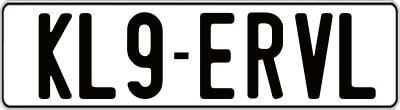9: (125, 9, 164, 97)
E: (198, 11, 236, 98)
K: (36, 11, 72, 100)
L: (339, 13, 378, 100), (79, 12, 117, 99)
R: (245, 9, 285, 102)
V: (292, 11, 331, 101)
